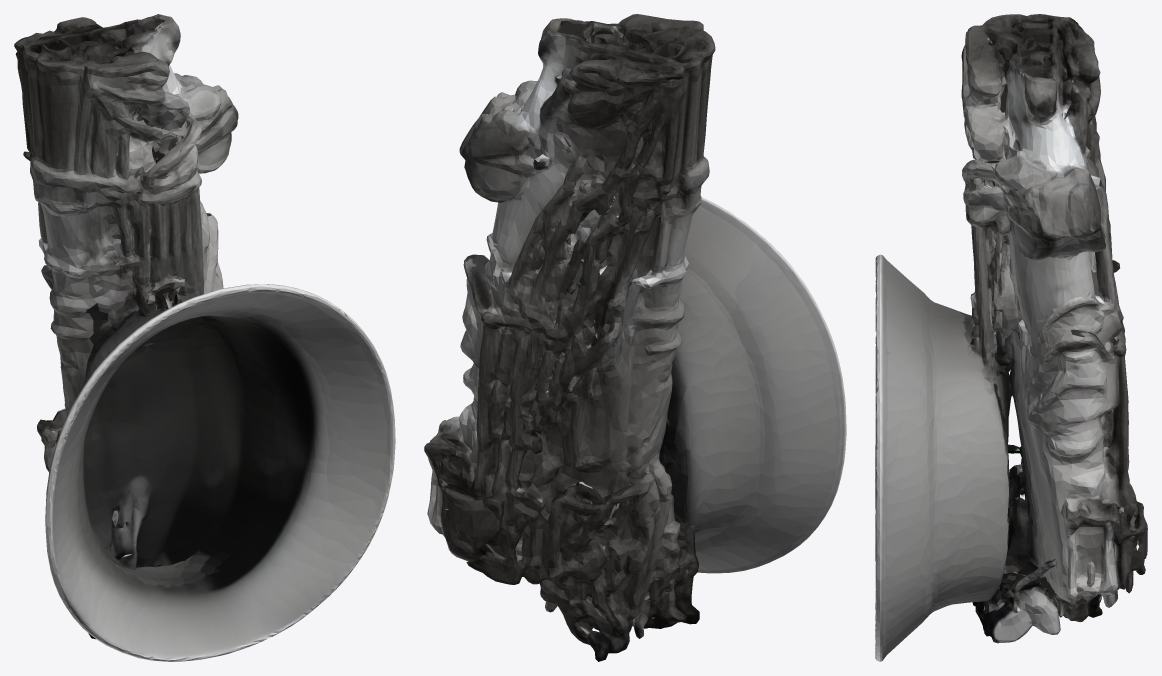
File: saxophone_01.glb
3 renders of one model, left to right at view 1: azimuth 30°, elevation 25°; view 2: azimuth 150°, elevation 25°; view 3: azimuth 270°, elevation 25°, orthographic. The views are drawn at different scales.
Parts seen in each view (by area): view 1: tmp8zageue2.ply; view 2: tmp8zageue2.ply; view 3: tmp8zageue2.ply.
Boxes of the visible parts, bbox=[...] form: tmp8zageue2.ply: bbox=[14, 14, 395, 661]; tmp8zageue2.ply: bbox=[424, 14, 846, 661]; tmp8zageue2.ply: bbox=[875, 14, 1147, 661].
Bounding box in the file's own units: 1.24 × 1.96 × 0.8426.
Materials: 1 (1 with a texture image).
